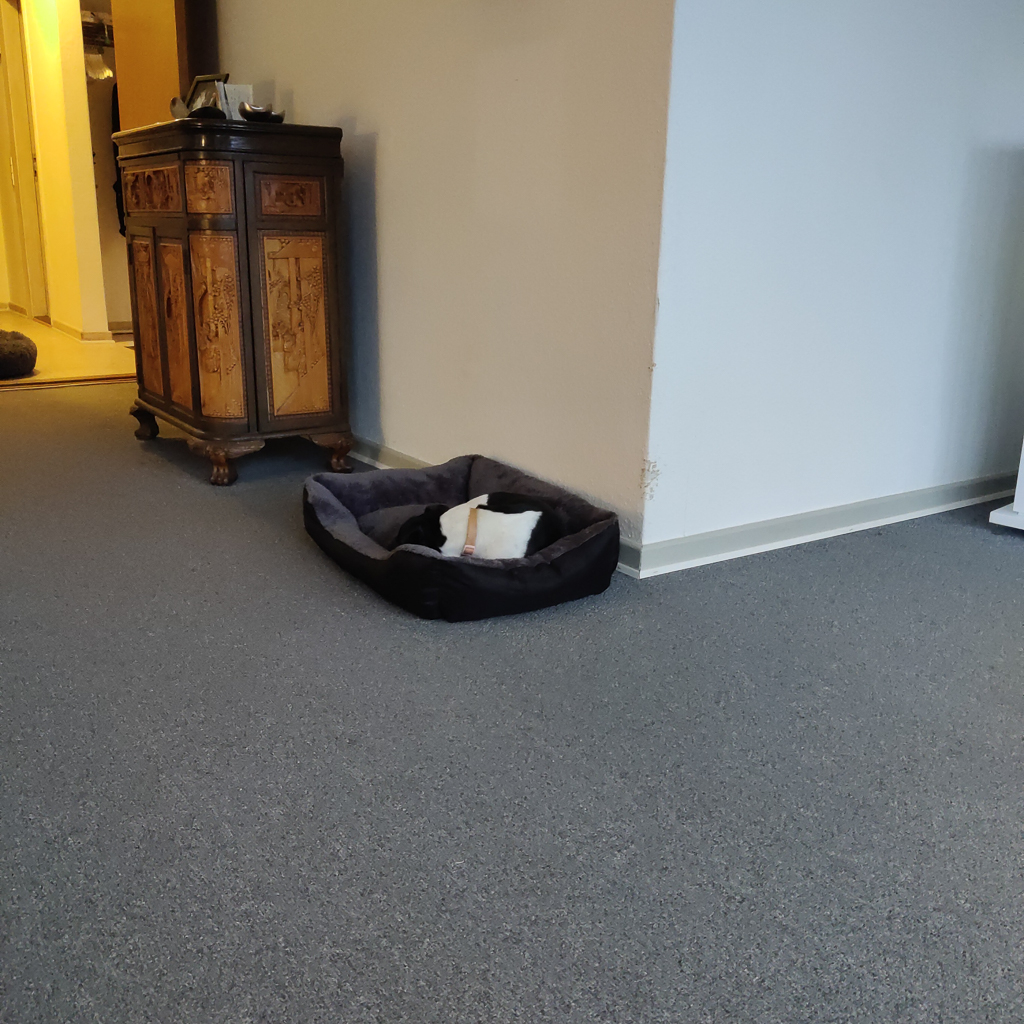Dog: (364, 476, 606, 585)
